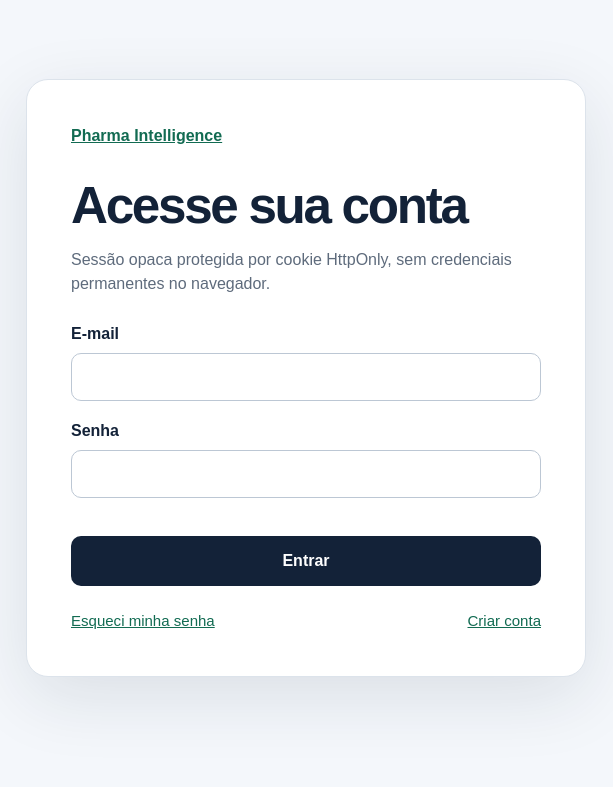
Test case: LoginPage › shows a backend error without redirecting
Type "user@example.com" into the field labelled "E-mail". click: (306, 377)
box: [71, 353, 541, 401]
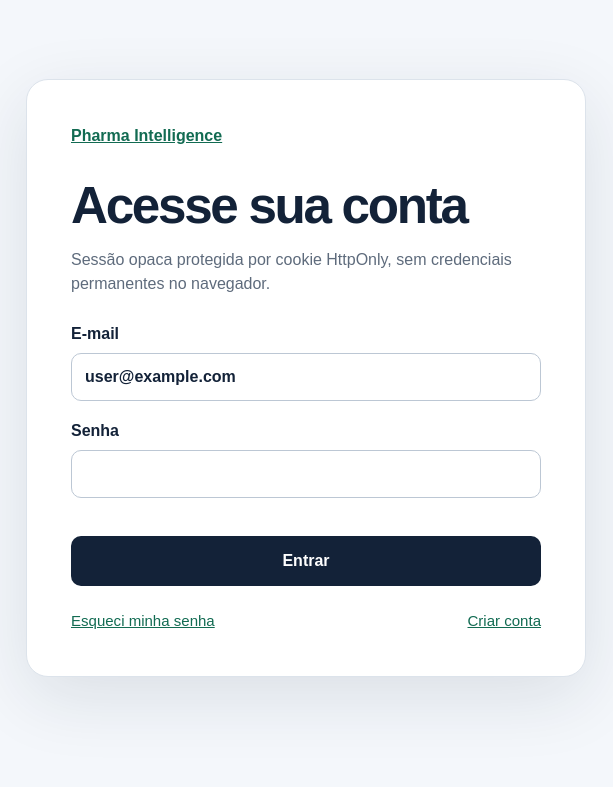
Type "wrong" into the password field labelled "Senha". click: (306, 474)
box: [71, 450, 541, 498]
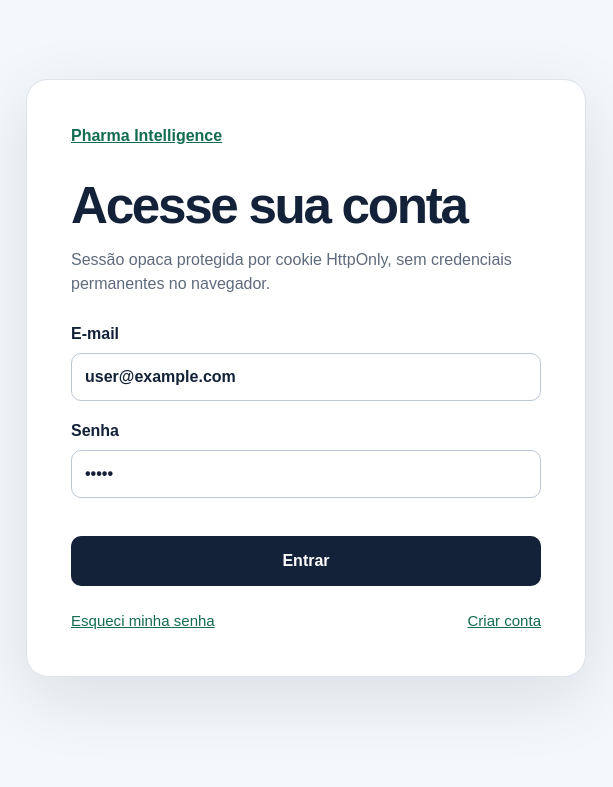
Click the button "Entrar". click: (306, 561)
box: [71, 536, 541, 586]
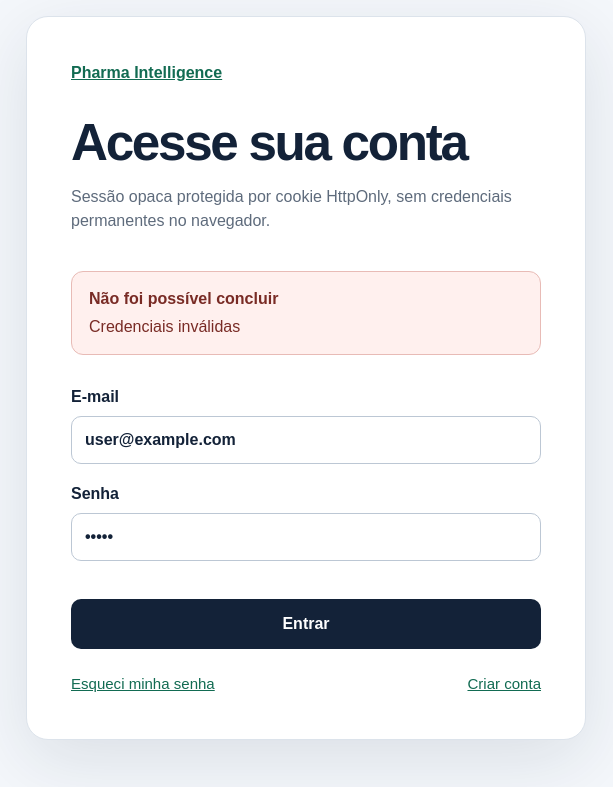
Expected: the text "Credenciais inválidas" is shown, [89, 318, 240, 335]
